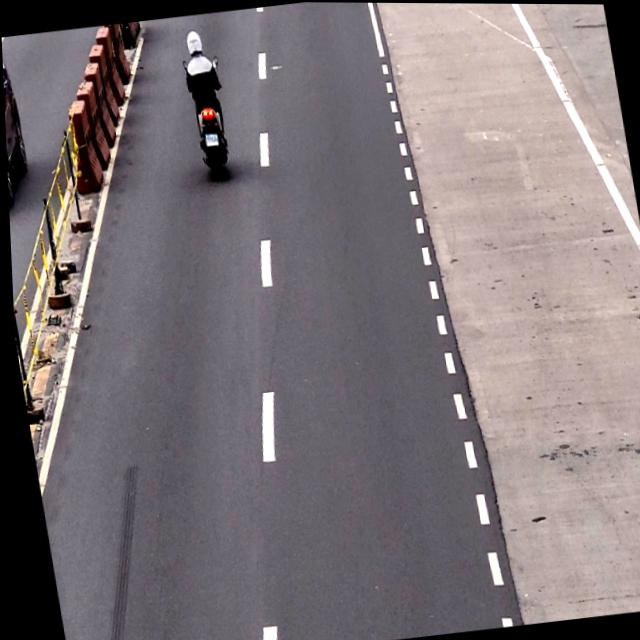License-Plate: (201, 131, 218, 149)
Motorcycle: (177, 27, 238, 183)
